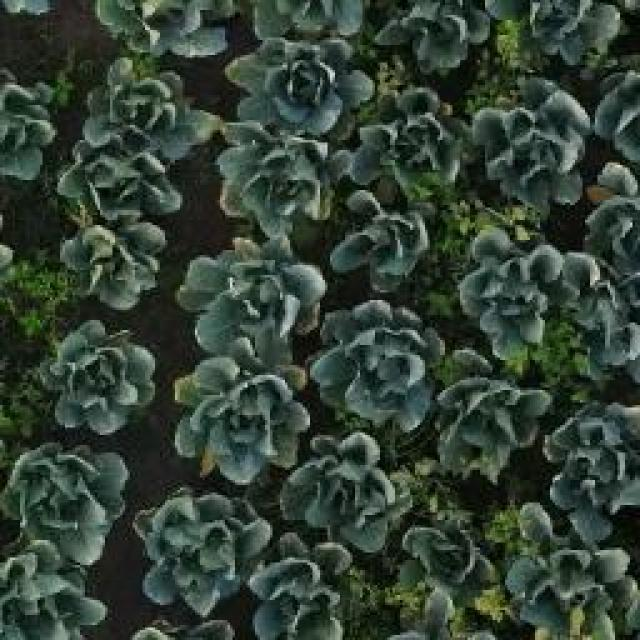cabbage: (183, 242, 322, 361), (316, 297, 436, 424), (513, 520, 640, 639), (461, 227, 577, 353), (475, 87, 593, 206), (136, 492, 256, 608), (178, 371, 303, 479), (44, 322, 162, 436), (0, 445, 121, 553), (55, 192, 165, 310), (546, 392, 640, 527), (430, 378, 553, 480), (349, 84, 463, 192), (281, 431, 392, 536), (80, 62, 210, 150), (242, 37, 362, 129), (396, 511, 499, 617), (226, 134, 337, 230), (254, 543, 358, 640), (331, 190, 429, 288), (68, 140, 185, 221), (0, 552, 105, 640), (375, 0, 493, 70), (101, 0, 231, 48)
